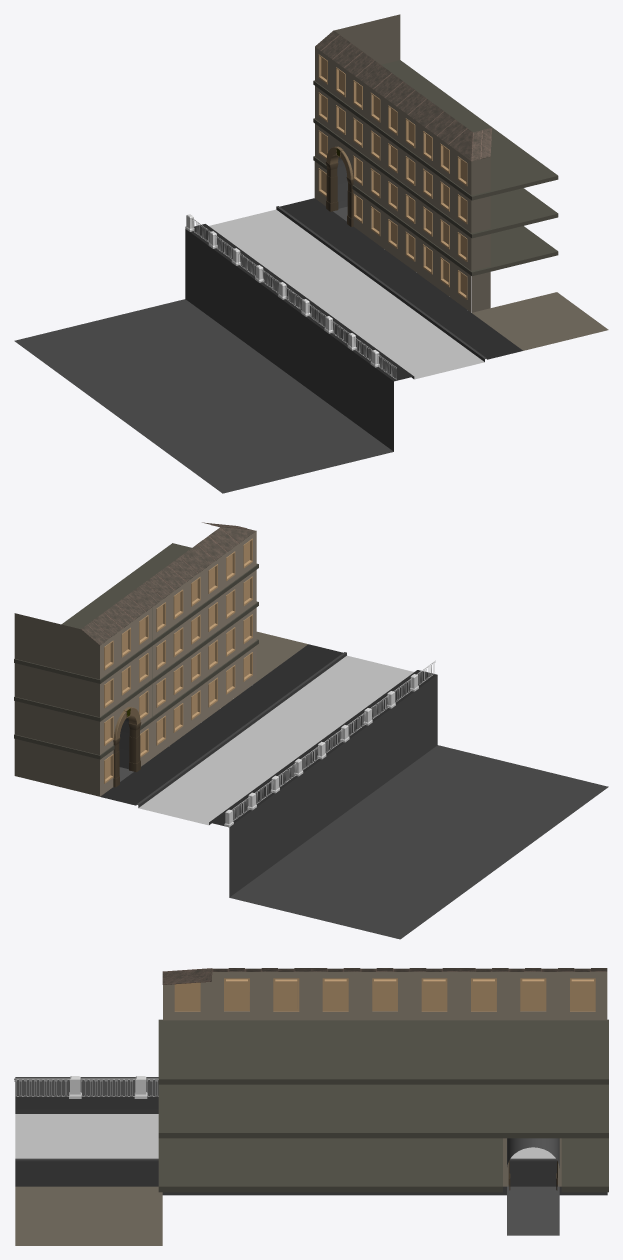
The model's file is улица1.fbx.
The picture shows the model from 3 angles, top to bottom: view 1: azimuth 30°, elevation 25°; view 2: azimuth 150°, elevation 25°; view 3: azimuth 270°, elevation 25°; orthographic projection. The views are drawn at different scales.
Visible parts, largest first — view 1: Plane.003, Cube.069, Cube.071, Cube.072, Cube.073, Cube.054, Cube.060, Cube.065, Cube.070, Cube.050, Cube.063, Cube.068 (+12 smaller); view 2: Plane.003, Cube.054, Cube.071, Cube.060, Cube.065, Cube.050, Cube.063, Cube.068, Cube.058, Cube.061, Cube.062, Cube.066 (+13 smaller); view 3: Cube.071, Cube.072, Cube.073, Plane.003, Cube.069, Cube.058, Cube.063, Cube.068, Circle.001, Cube.050, Cube.070, Cube.059 (+3 smaller).
Boxes of the visible parts, x1,y1,x2,y2 form: Plane.003: (14,198,522,493); Cube.069: (471,157,608,350); Cube.071: (313,60,558,200); Cube.072: (313,118,558,238); Cube.073: (313,156,558,276); Cube.054: (334,14,400,64); Cube.060: (367,200,419,274); Cube.065: (419,238,471,312); Cube.070: (419,107,492,161); Cube.050: (192,218,396,380); Cube.063: (367,85,419,156); Cube.068: (419,123,471,194); Plane.003: (100,644,608,939); Cube.054: (14,613,99,796); Cube.071: (14,543,258,683); Cube.060: (152,684,204,757); Cube.065: (204,645,256,719); Cube.050: (232,661,434,820); Cube.063: (152,569,204,640); Cube.068: (204,531,256,602); Cube.058: (100,608,151,679); Cube.061: (152,646,204,716); Cube.062: (152,608,204,678); Cube.066: (204,608,256,678); Cube.071: (158,1019,608,1084); Cube.072: (158,1084,608,1138); Cube.073: (158,1138,608,1192); Plane.003: (15,1077,607,1195); Cube.069: (15,1186,162,1245); Cube.058: (459,972,607,1020); Cube.063: (311,972,459,1020); Cube.068: (163,972,310,1020); Circle.001: (507,1138,559,1235); Cube.050: (15,1078,158,1096); Cube.070: (162,968,310,984); Cube.059: (459,968,607,971).
Bounding box in the file's own units: 4273 × 2460 × 4018.
